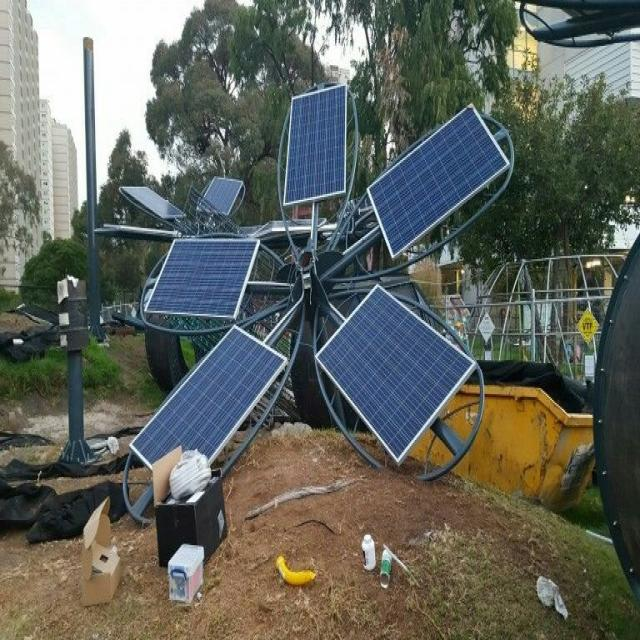clean-solar-panel: (316, 284, 476, 463), (130, 327, 288, 468), (368, 104, 510, 257), (144, 238, 260, 319), (284, 84, 346, 206)
